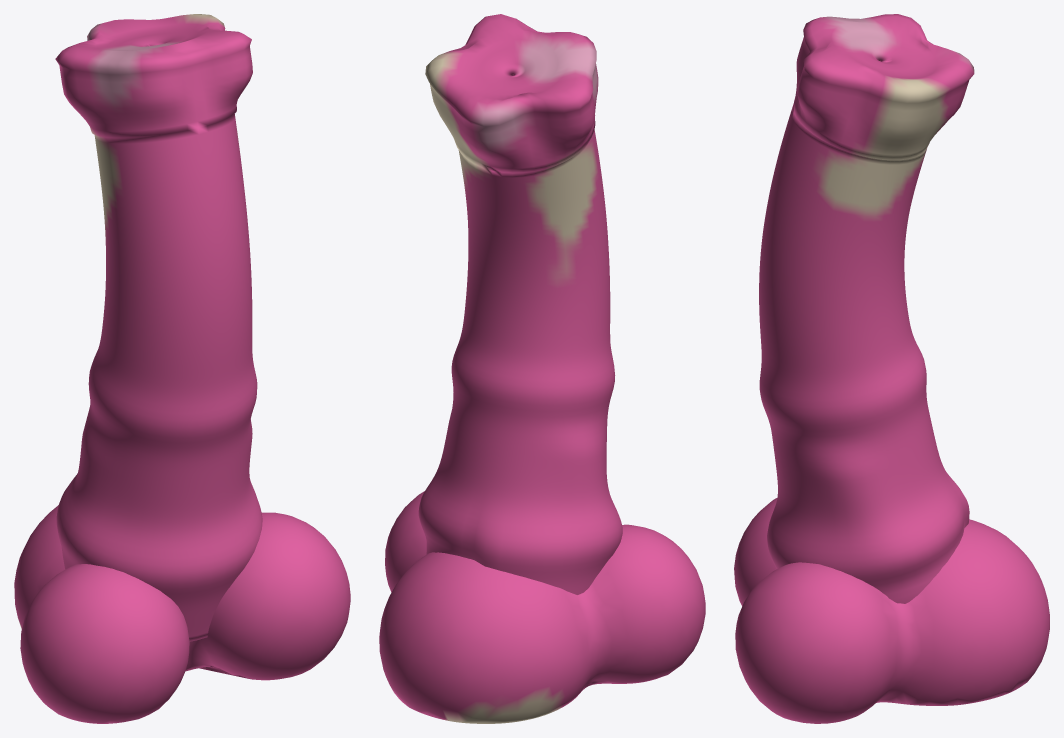
The model's file is knight.glb.
3 views of the same model, side by side, from view 1: azimuth 30°, elevation 25°; view 2: azimuth 150°, elevation 25°; view 3: azimuth 270°, elevation 25° (orthographic). The views are drawn at different scales.
Visible parts, largest first — view 1: knight; view 2: knight; view 3: knight.
Boxes of the visible parts, x1,y1,x2,y2 form: knight: [14, 14, 350, 723]; knight: [379, 14, 705, 723]; knight: [734, 14, 1049, 723].
Bounding box in the file's own units: 0.5076 × 1 × 0.4549.
